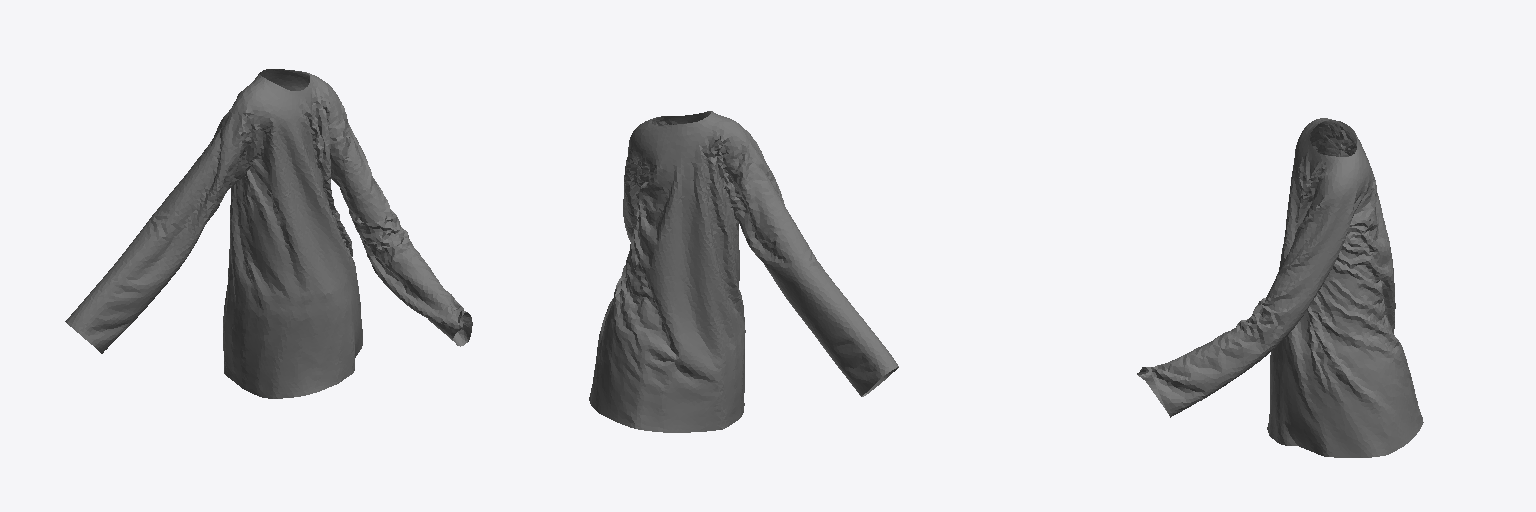
File: cloth5_2.obj
3 views of the same model, side by side, from view 1: azimuth 30°, elevation 25°; view 2: azimuth 150°, elevation 25°; view 3: azimuth 270°, elevation 25° (orthographic).
Parts seen in each view (by area): view 1: cloth5_2:Mesh1; view 2: cloth5_2:Mesh1; view 3: cloth5_2:Mesh1.
Boxes of the visible parts, x1=… form: cloth5_2:Mesh1: x1=65, y1=69, x2=472, y2=398; cloth5_2:Mesh1: x1=589, y1=111, x2=898, y2=432; cloth5_2:Mesh1: x1=1137, y1=118, x2=1423, y2=457.
Bounding box in the file's own units: 3.97 × 3.64 × 3.12.